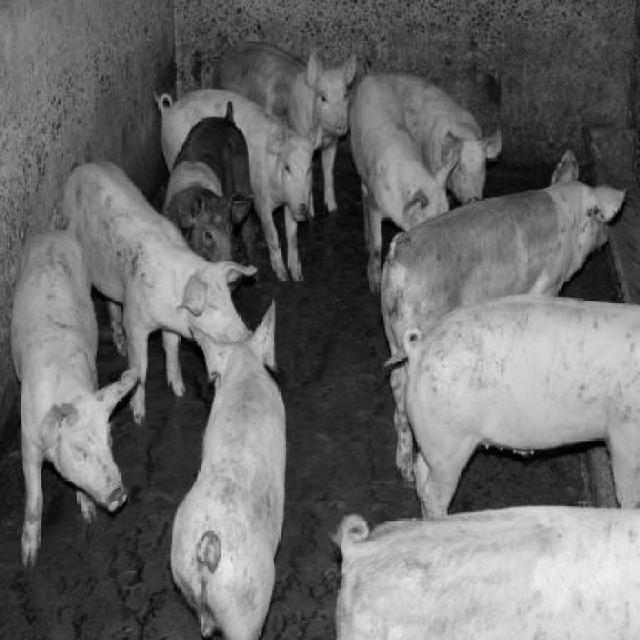Boar: (7, 36, 640, 638)
